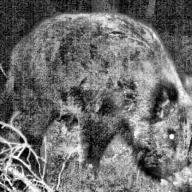boar: (7, 9, 192, 183)
